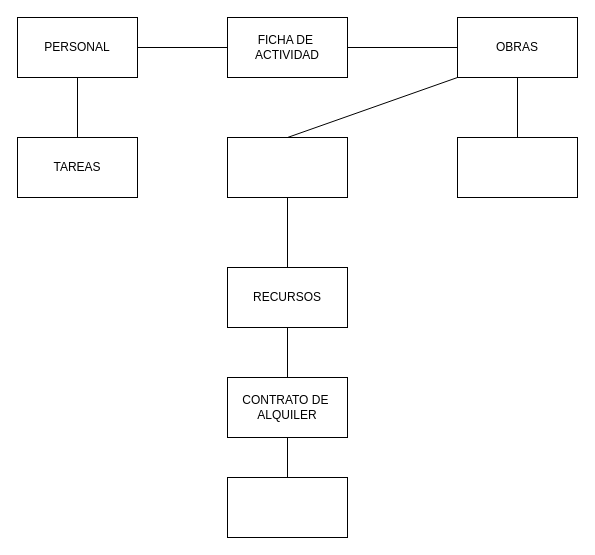
The diagram is 595 pixels wide and 555 high, and some of its shapes have lost their labels. Each missing label, with the centre of its shape:
PLANILLA DE USO: [287,167]
PROFESIONALES: [517,167]
PROVEEDORES: [287,507]
